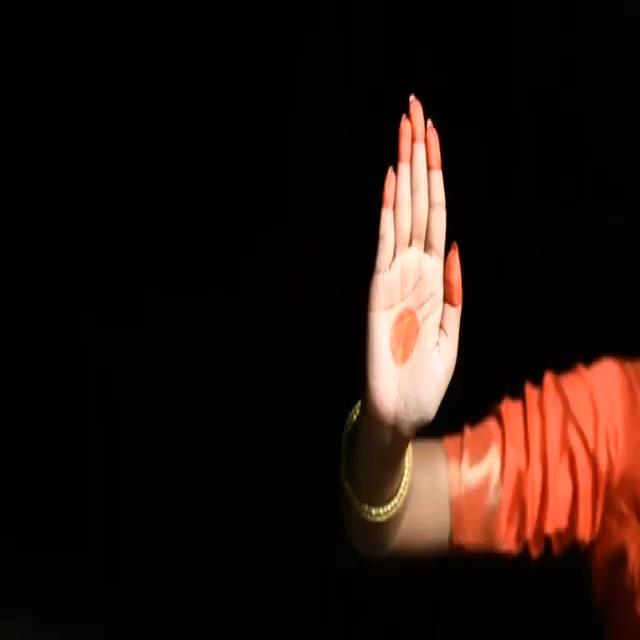Pataka: (343, 85, 494, 438)
bangle: (328, 406, 417, 534)
